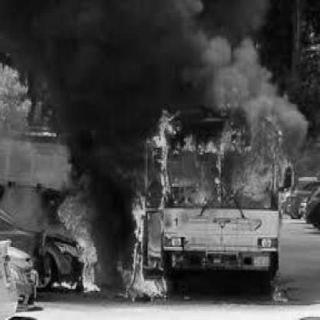Fire: (51, 167, 184, 304)
